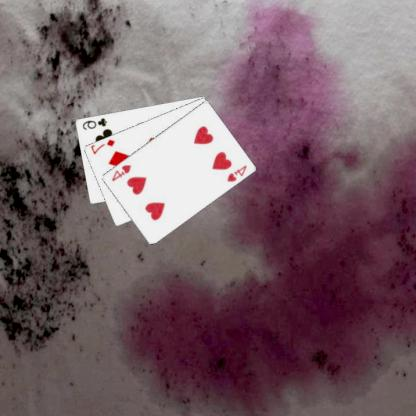4H: (110, 162, 134, 183), (226, 163, 249, 183)
6C: (81, 115, 110, 131)
7D: (90, 136, 118, 155)
